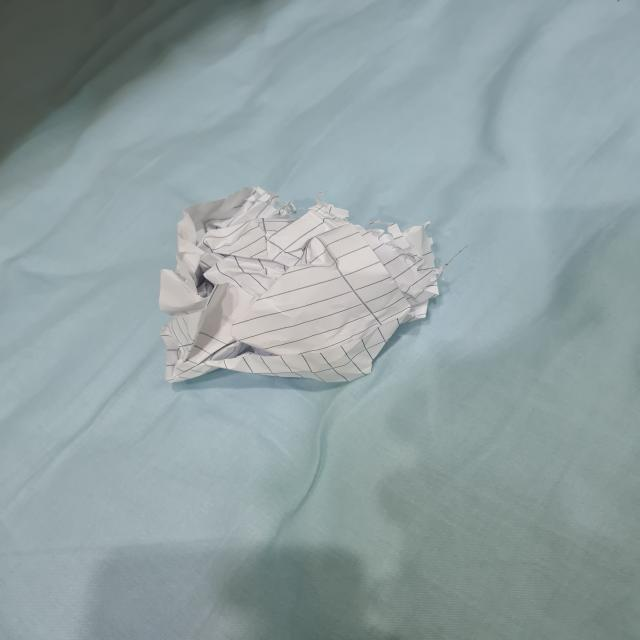Paper: (152, 190, 442, 396)
